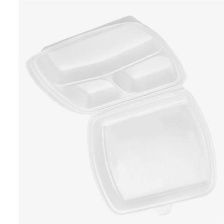foam_box: (19, 11, 222, 220)
